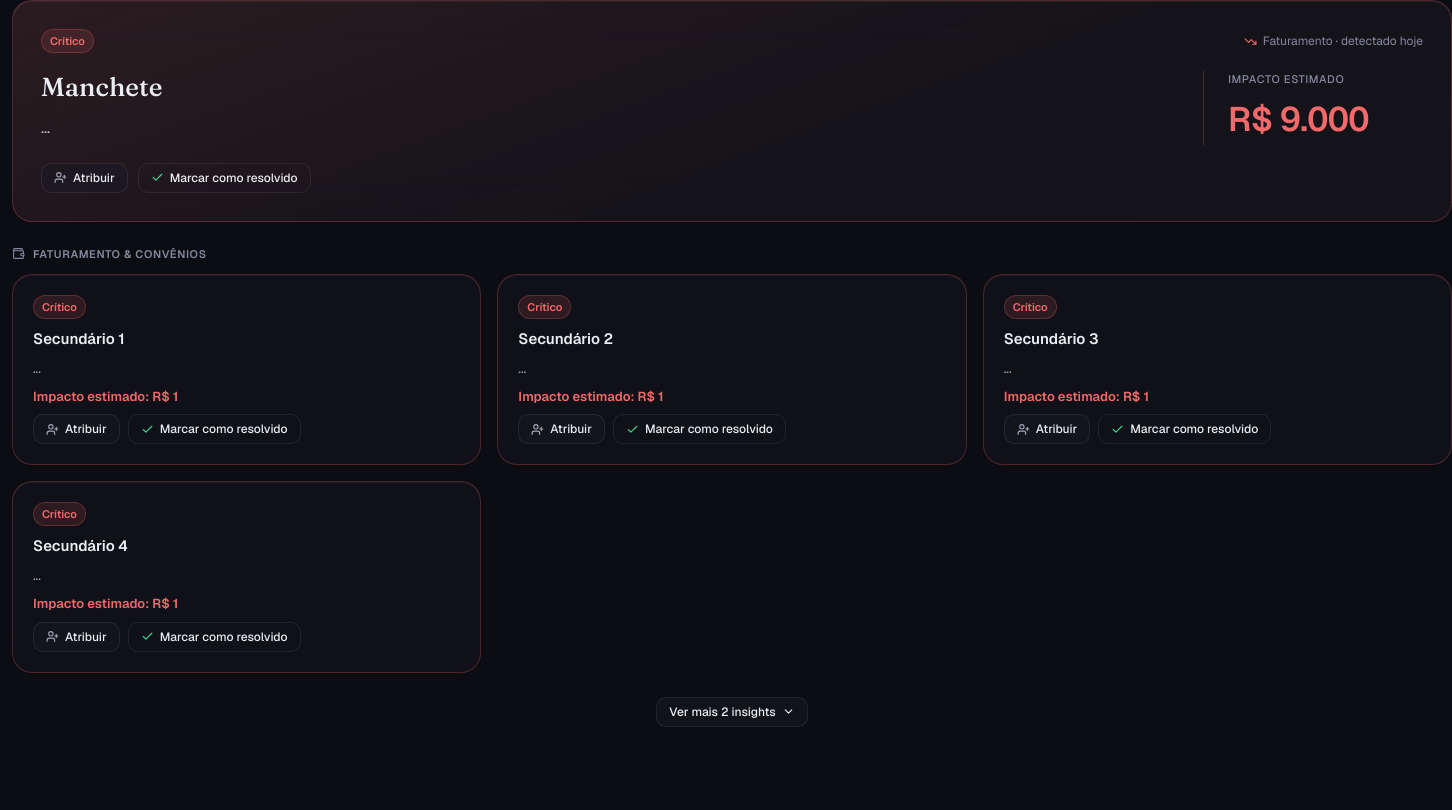
SmartInsightsFeed › mostra no máximo 4 insights secundários e revela o resto com 'ver mais'
The width and height of the screenshot is (1452, 810).
Expected: the text "Secundário 4" is shown, [33, 536, 128, 555]
Expected: the text "Secundário 5 (escondido)" is not shown
Click the button "Ver mais 2 insights": [732, 712] box [656, 696, 808, 726]
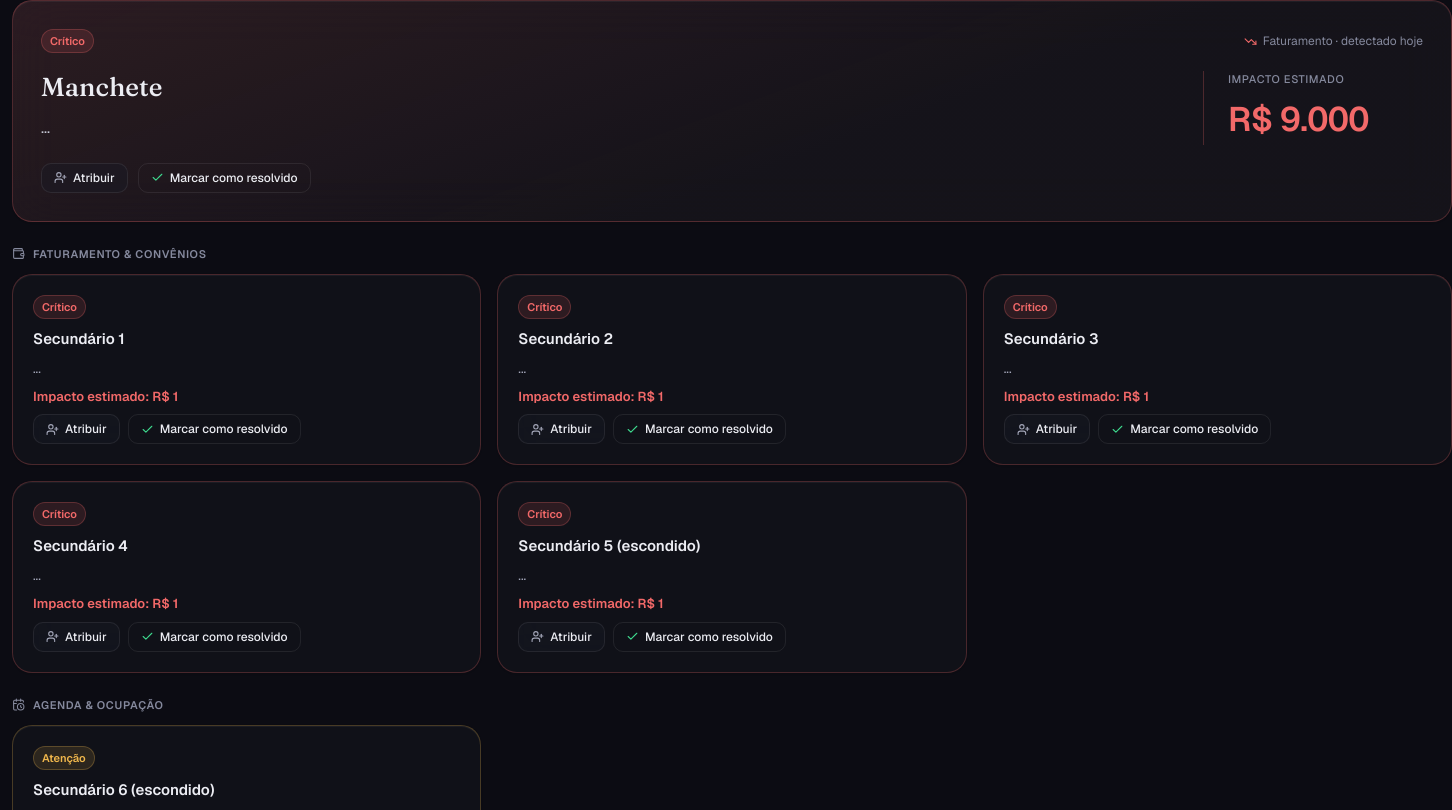
Result: the text "Secundário 5 (escondido)" is shown at [518, 536, 700, 555]
Result: the text "Secundário 6 (escondido)" is shown at [33, 780, 214, 799]
Result: the button "Ver mais" is gone
